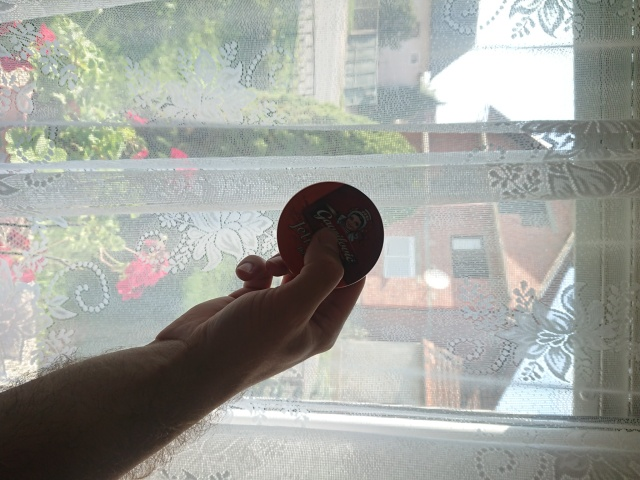Gavrilovic Pork Liver Pate 100g: (274, 178, 387, 292)
